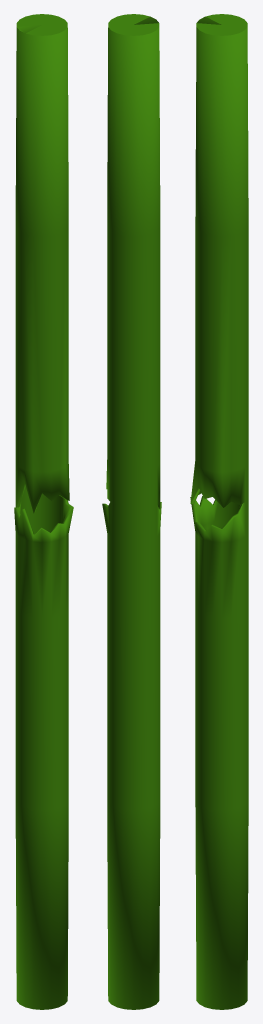
The model's file is pipe-trap.FBX.
3 views of the same model, side by side, from view 1: azimuth 30°, elevation 25°; view 2: azimuth 210°, elevation 25°; view 3: azimuth 330°, elevation 25° (orthographic).
Visible parts, largest first — view 1: Cylinder001; view 2: Cylinder001; view 3: Cylinder001.
Part boxes in pixels (x1,y1,x2,y2): Cylinder001: [14, 14, 73, 1009]; Cylinder001: [102, 14, 161, 1009]; Cylinder001: [190, 14, 248, 1009].
Bounding box in the file's own units: 14.84 × 274 × 14.26.
